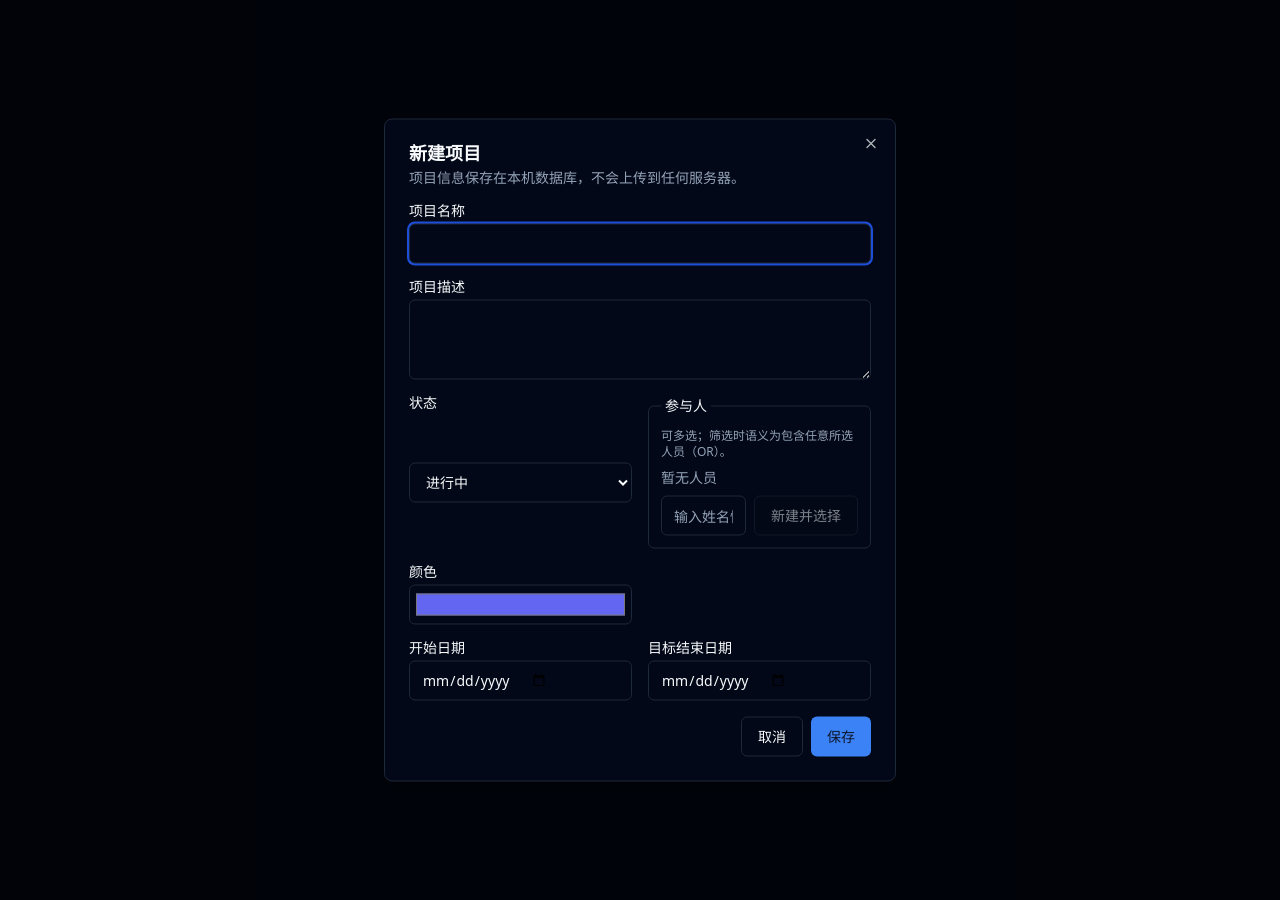
Scenario: ProjectForm › rejects a target end date earlier than the start date
Type "内网门户重构" into the field labelled "项目名称" at (640, 244), box left=409, top=224, right=871, bottom=264
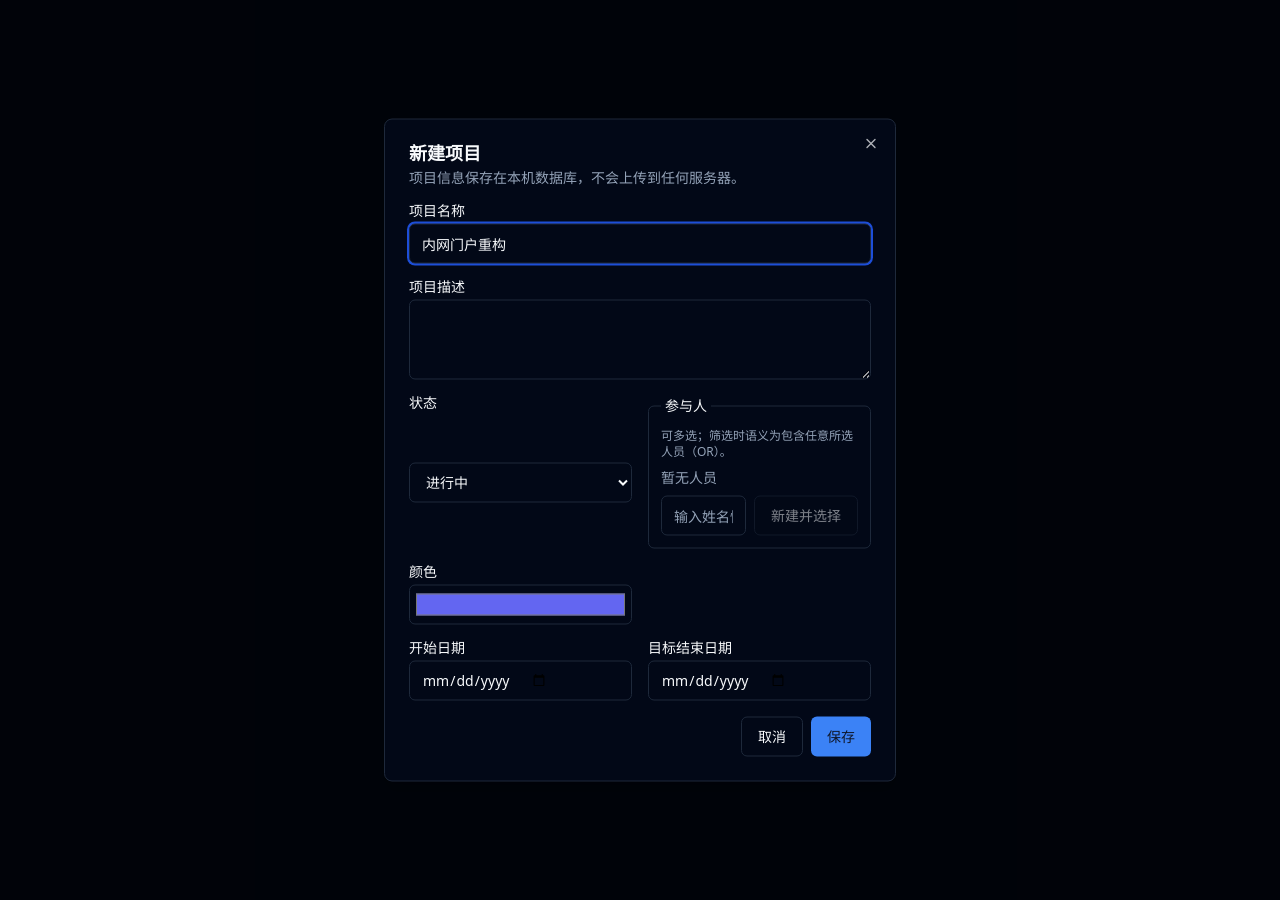
Type "2026-08-10" into the date field labelled "开始日期" at (520, 680), box left=409, top=660, right=632, bottom=700
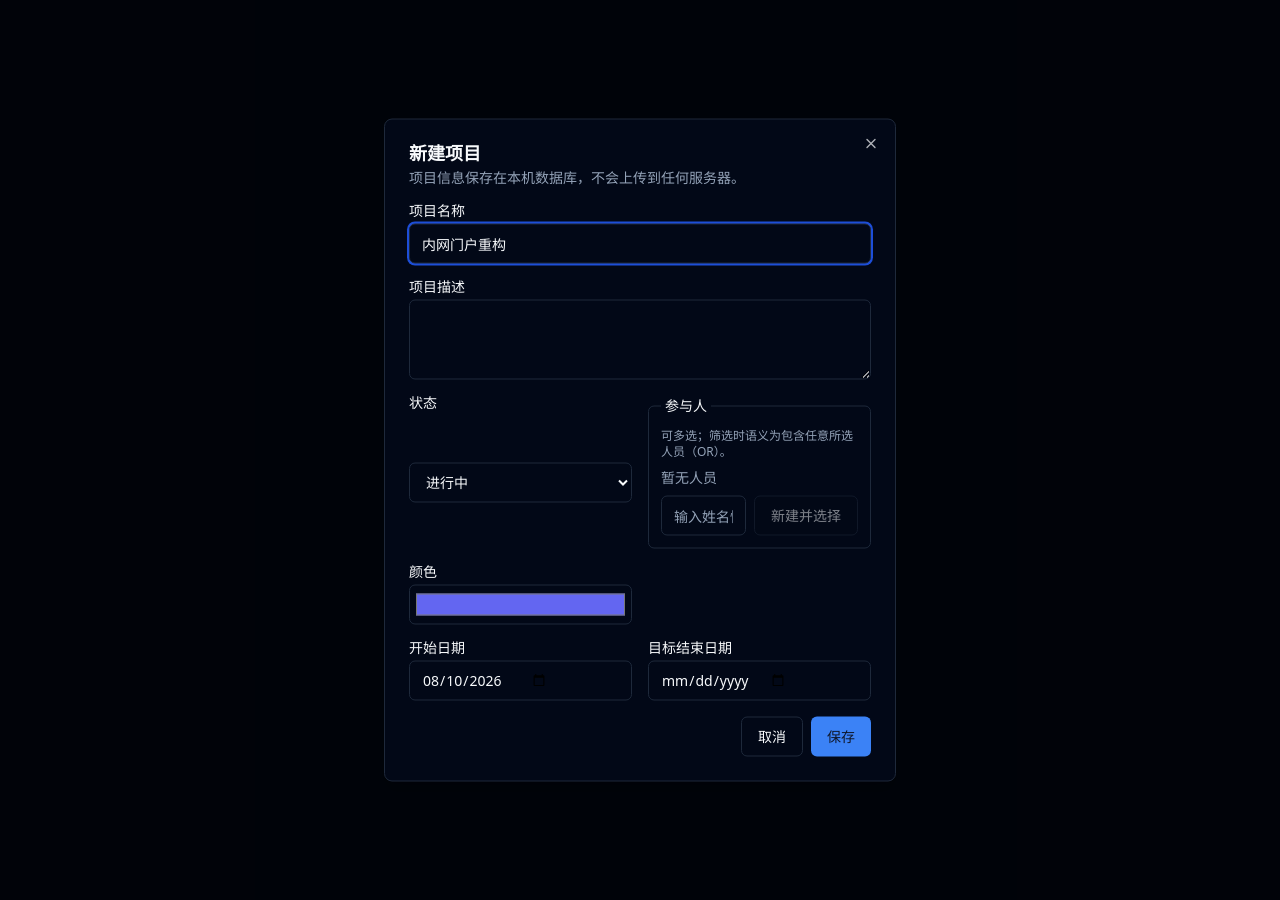
Type "2026-08-01" into the date field labelled "目标结束日期" at (760, 680), box left=648, top=660, right=871, bottom=700
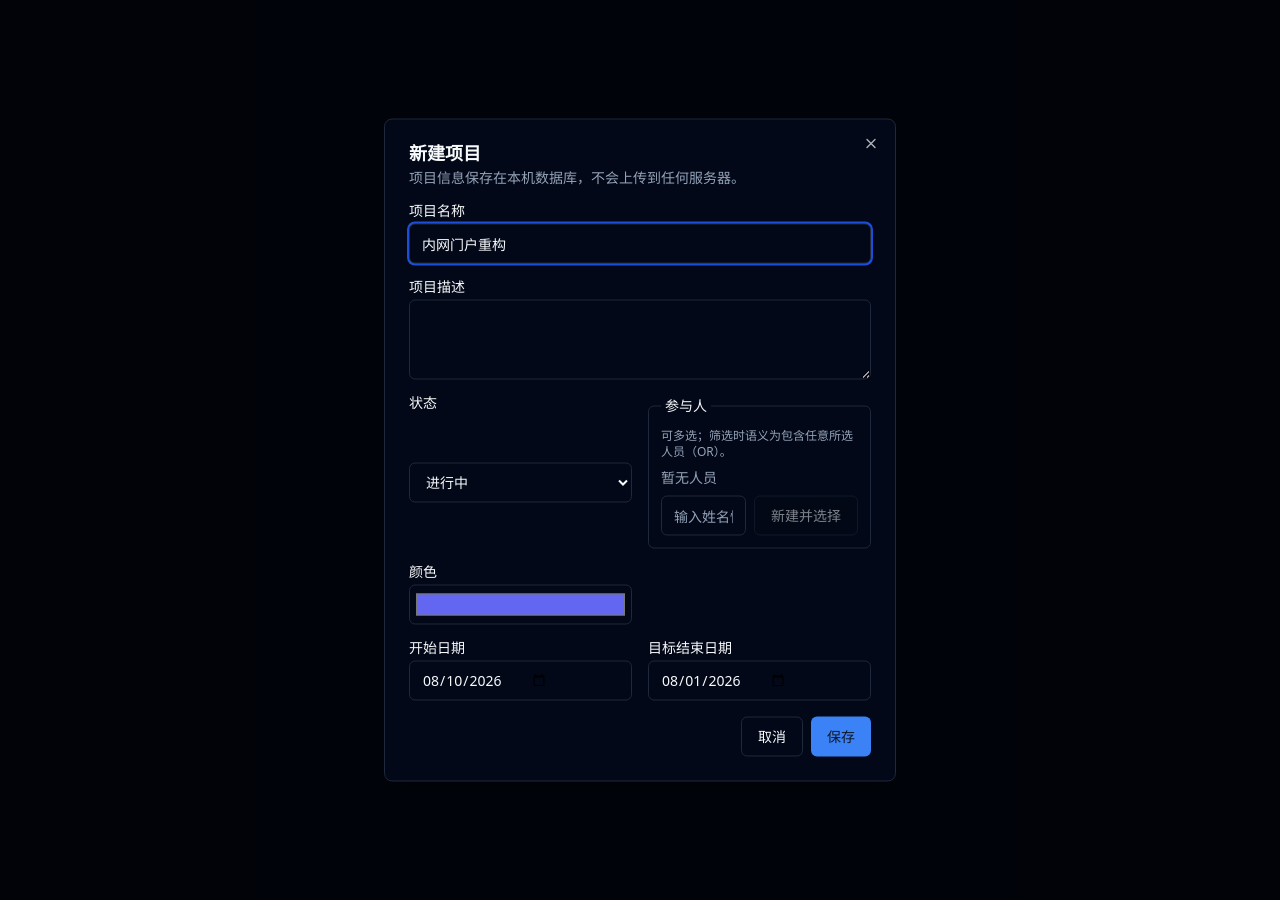
Click the button "保存" at (841, 736), box left=811, top=716, right=871, bottom=756
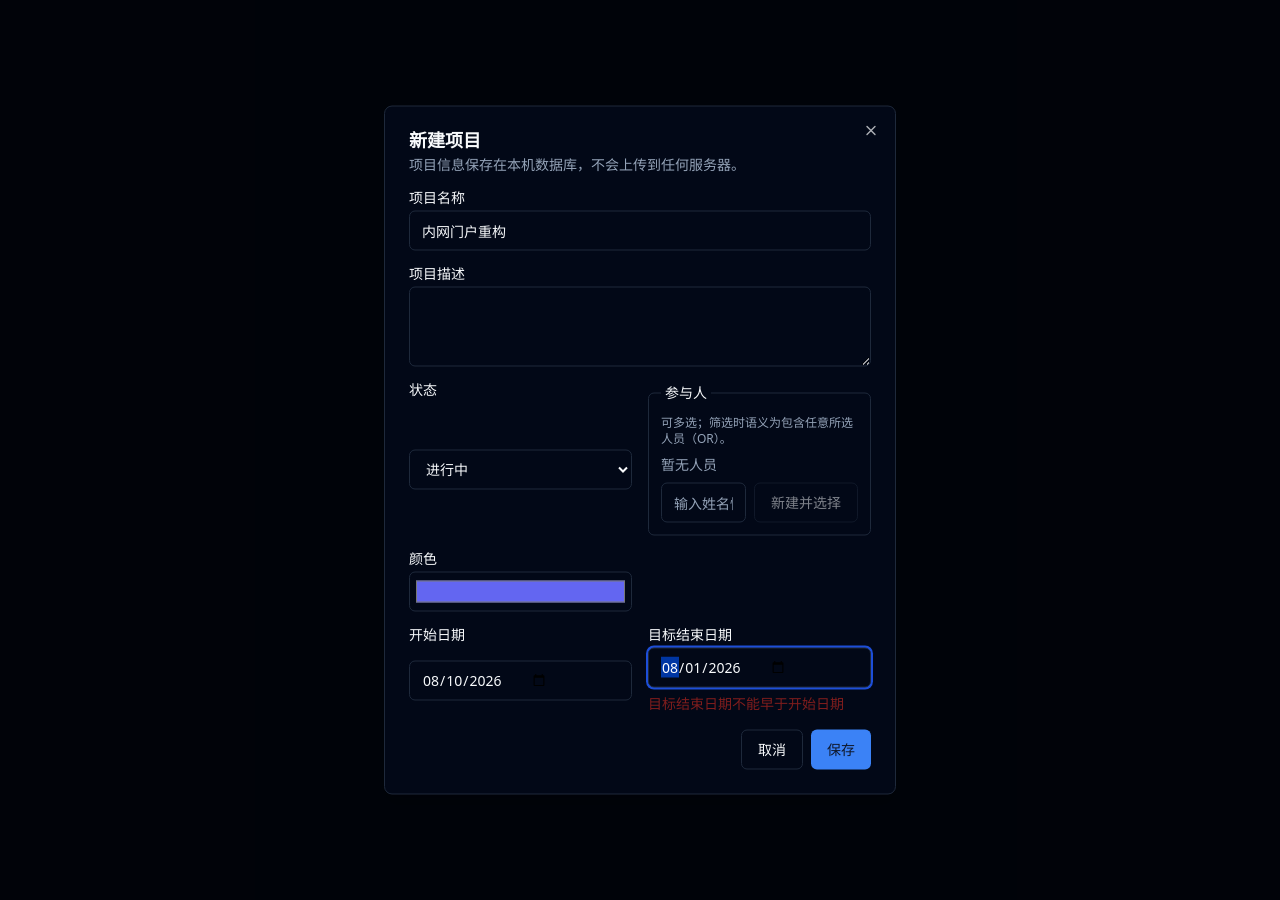
Now the text "目标结束日期不能早于开始日期" is shown, box left=648, top=694, right=871, bottom=714
